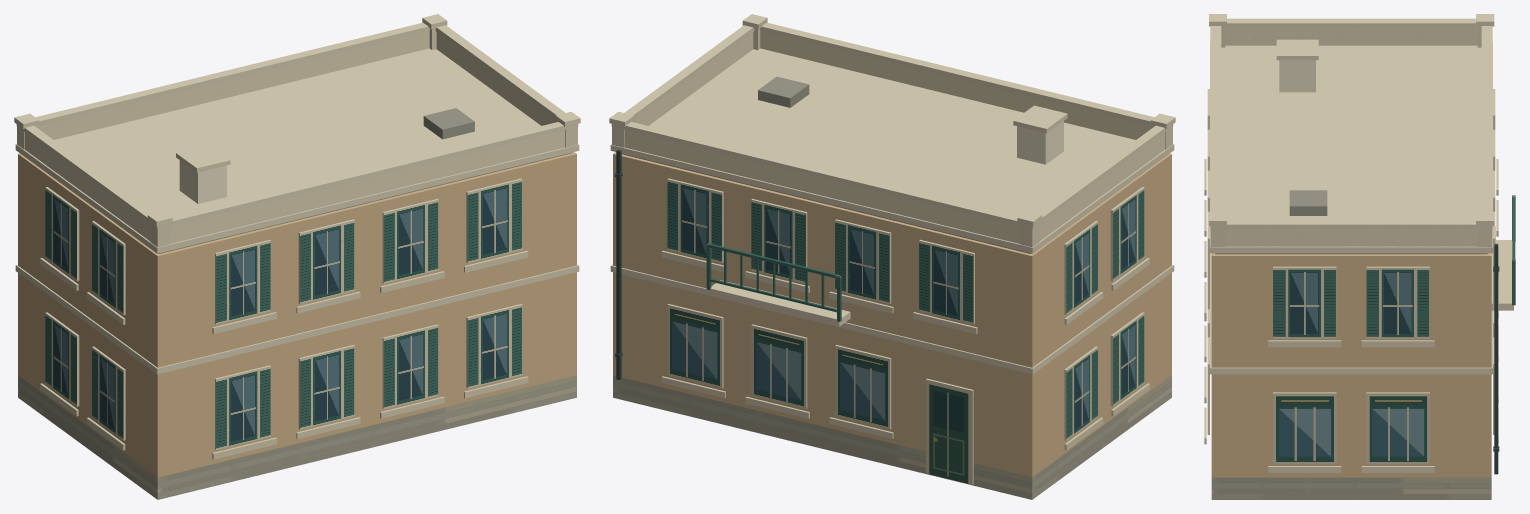
Rendered from SM_QD_Flat_LowStreet.fbx.
The picture shows the model from 3 angles, left to right: view 1: azimuth 30°, elevation 25°; view 2: azimuth 150°, elevation 25°; view 3: azimuth 270°, elevation 25°; orthographic projection.
Parts seen in each view (by area): view 1: SM_QD_Flat_LowStreet; view 2: SM_QD_Flat_LowStreet; view 3: SM_QD_Flat_LowStreet.
Part boxes in pixels (x1,y1,x2,y2): SM_QD_Flat_LowStreet: (14, 14, 580, 499); SM_QD_Flat_LowStreet: (609, 14, 1175, 499); SM_QD_Flat_LowStreet: (1204, 14, 1515, 499).
Bounding box in the file's own units: 9.27 × 5.78 × 5.95.
Materials: 1 (1 with a texture image).
